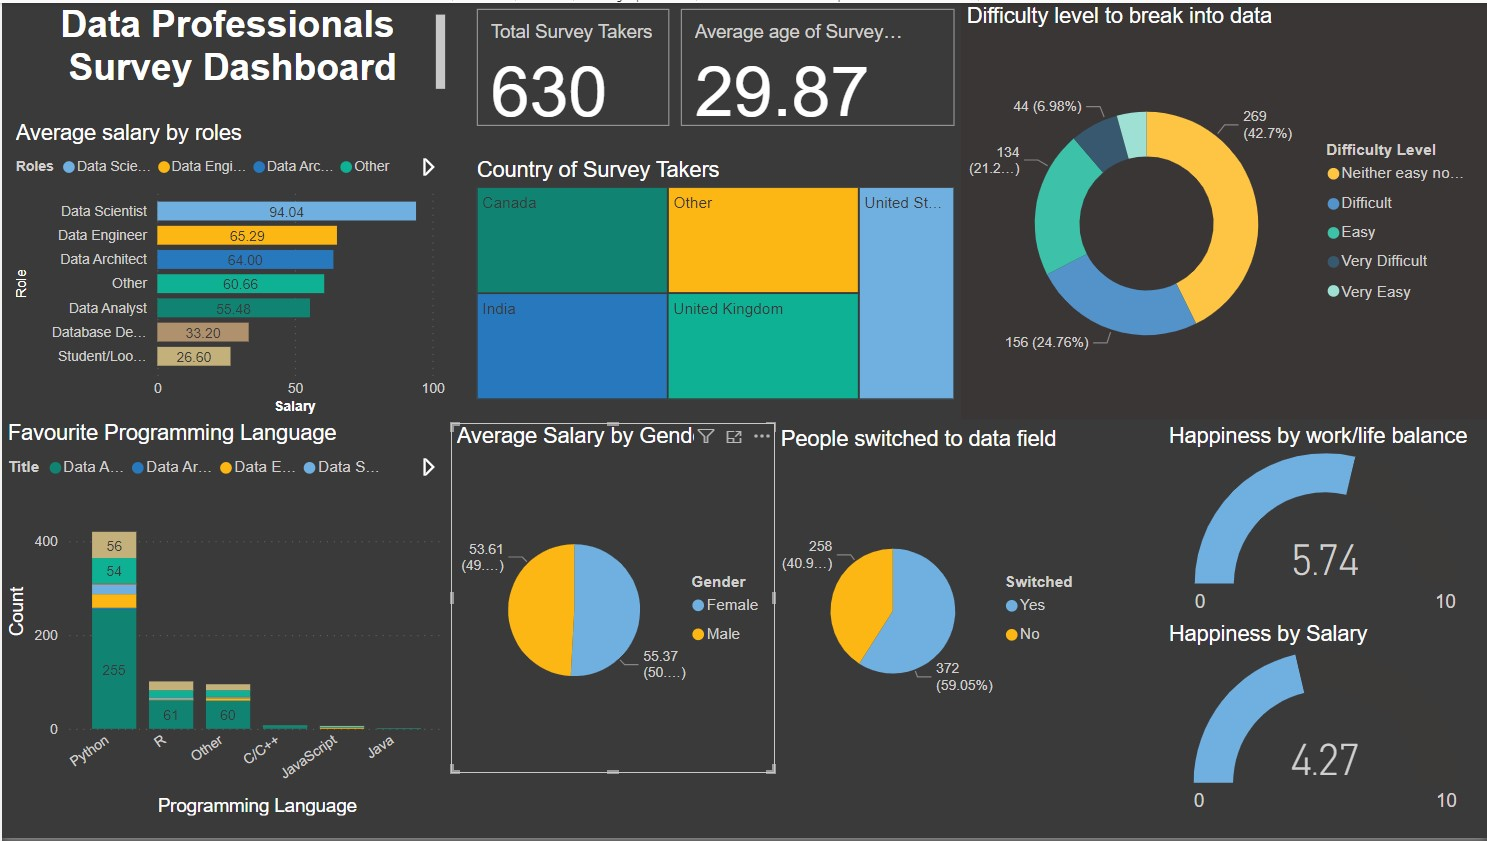

This screenshot's page, from the dashboard's own definition file:
{"tool":"powerbi","page":{"name":"Page 1","canvas":[1280,720],"ordinal":0},"visuals":[{"type":"pieChart","title":"People switched to data field","fields":{"Category":["Data Professional Survey.Q2 - Did you switch careers into Data?"],"Y":["CountNonNull(Data Professional Survey.Q2 - Did you switch careers into Data?)"]},"box":[666.3,359.4,280.1,303.4],"z":0},{"type":"barChart","title":"Average salary by roles","fields":{"Category":["Data Professional Survey.Q1 - Which Title Best Fits your Current Role?.1"],"Y":["Avg(Data Professional Survey.Average Salary)"],"Series":["Data Professional Survey.Q1 - Which Title Best Fits your Current Role?.1"]},"box":[6.9,100.8,380.1,258.6],"z":1000},{"type":"gauge","title":"Happiness by Salary","fields":{"Y":["Avg(Data Professional Survey.Q6 - How Happy are you in your Current Position with the following? (Salary))"],"MinValue":["Min(Data Professional Survey.Q6 - How Happy are you in your Current Position with the following? (Salary))"],"MaxValue":["Max(Data Professional Survey.Q6 - How Happy are you in your Current Position with the following? (Salary))"]},"box":[1000.4,532.3,279.6,171.4],"z":2000},{"type":"gauge","title":"Happiness by work/life balance","fields":{"Y":["Avg(Data Professional Survey.Q6 - How Happy are you in your Current Position with the following? (Work/Life Balance))"],"MinValue":["Min(Data Professional Survey.Q6 - How Happy are you in your Current Position with the following? (Work/Life Balance))"],"MaxValue":["Max(Data Professional Survey.Q6 - How Happy are you in your Current Position with the following? (Work/Life Balance))1"]},"box":[1000.4,361.9,279.6,170.4],"z":3000},{"type":"donutChart","title":"Difficulty level to break into data","fields":{"Category":["Data Professional Survey.Q7 - How difficult was it for you to break into Data?"],"Y":["CountNonNull(Data Professional Survey.Q7 - How difficult was it for you to break into Data?)"]},"box":[826.2,0,453.8,359],"z":4000},{"type":"cardVisual","fields":{"Data":["Avg(Data Professional Survey.Q10 - Current Age)"]},"box":[580.2,0,246,111.1],"z":5000},{"type":"cardVisual","fields":{"Data":["Count(Data Professional Survey.Unique ID)"]},"box":[404,0,176.2,111.1],"z":6000},{"type":"columnChart","title":"Favourite Programming Language","fields":{"Category":["Data Professional Survey.Q5 - Favorite Programming Language.1"],"Y":["CountNonNull(Data Professional Survey.Q5 - Favorite Programming Language.1)"],"Series":["Data Professional Survey.Q1 - Which Title Best Fits your Current Role?.1"]},"box":[0,359.4,387,346.5],"z":7000},{"type":"treemap","title":"Country of Survey Takers","fields":{"Values":["Count(Data Professional Survey.Q11 - Which Country do you live in?.1)"],"Group":["Data Professional Survey.Q11 - Which Country do you live in?.1"]},"box":[404.3,132.7,421.5,213.8],"z":8000},{"type":"textbox","box":[19.1,0,367.6,78.5],"z":9000},{"type":"pieChart","title":" Average Salary by Gender","fields":{"Category":["Data Professional Survey.Q9 - Male/Female?"],"Y":["Avg(Data Professional Survey.Average Salary)"]},"box":[387,362,279.3,301.7],"z":10000}]}

Visuals, with their boxes in screenshot pixels (x1, y1, x2, y2), scaled from the page's 1280x720 canvas onto the 1487x841 screenshot:
"People switched to data field" pieChart: box(774, 420, 1099, 774)
"Average salary by roles" barChart: box(8, 118, 450, 420)
"Happiness by Salary" gauge: box(1162, 622, 1486, 822)
"Happiness by work/life balance" gauge: box(1162, 423, 1486, 622)
"Difficulty level to break into data" donutChart: box(960, 0, 1486, 419)
cardVisual - Avg(Data Professional Survey.Q10 - Current Age): box(674, 0, 960, 130)
cardVisual - Count(Data Professional Survey.Unique ID): box(469, 0, 674, 130)
"Favourite Programming Language" columnChart: box(0, 420, 450, 825)
"Country of Survey Takers" treemap: box(470, 155, 959, 405)
textbox: box(22, 0, 449, 92)
" Average Salary by Gender" pieChart: box(450, 423, 774, 775)
